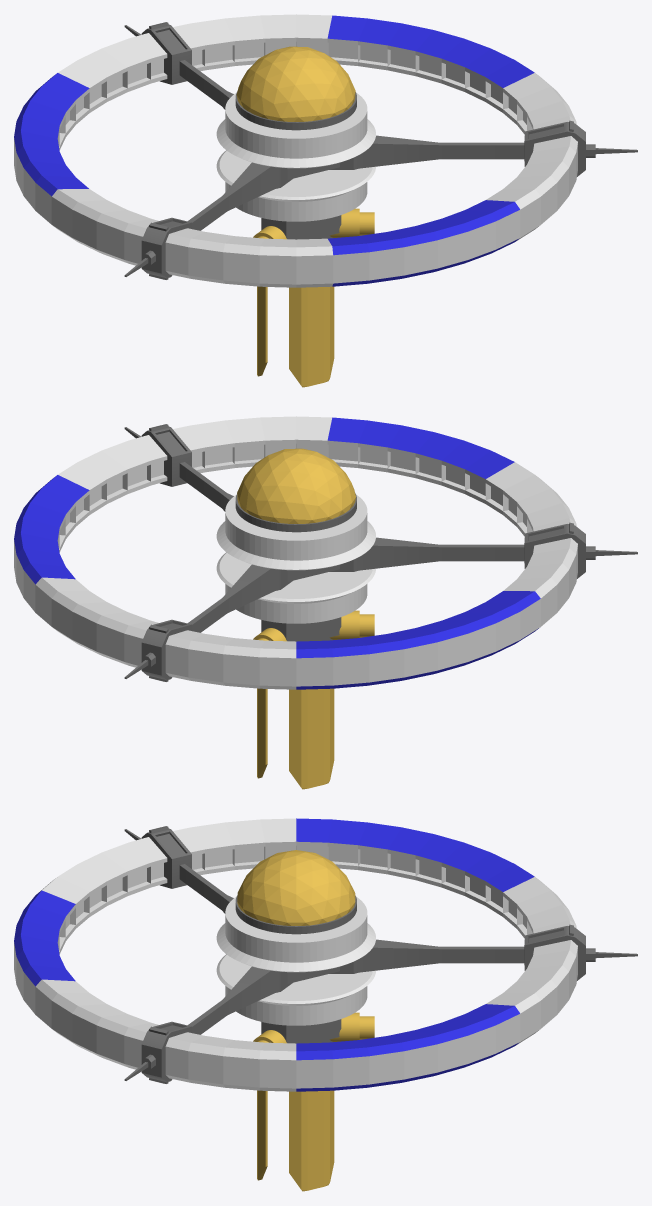
The model's file is station_ColonyBase_1.glb.
The picture shows the model from 3 angles, top to bottom: view 1: azimuth 30°, elevation 25°; view 2: azimuth 150°, elevation 25°; view 3: azimuth 270°, elevation 25°; orthographic projection.
Parts seen in each view (by area): view 1: Cylinder.014; view 2: Cylinder.014; view 3: Cylinder.014.
Boxes of the visible parts, box(x1,y1,x2,y2) form: Cylinder.014: box(14, 14, 637, 387); Cylinder.014: box(14, 416, 637, 789); Cylinder.014: box(14, 818, 637, 1191).
Bounding box in the file's own units: 223 × 132 × 235.
